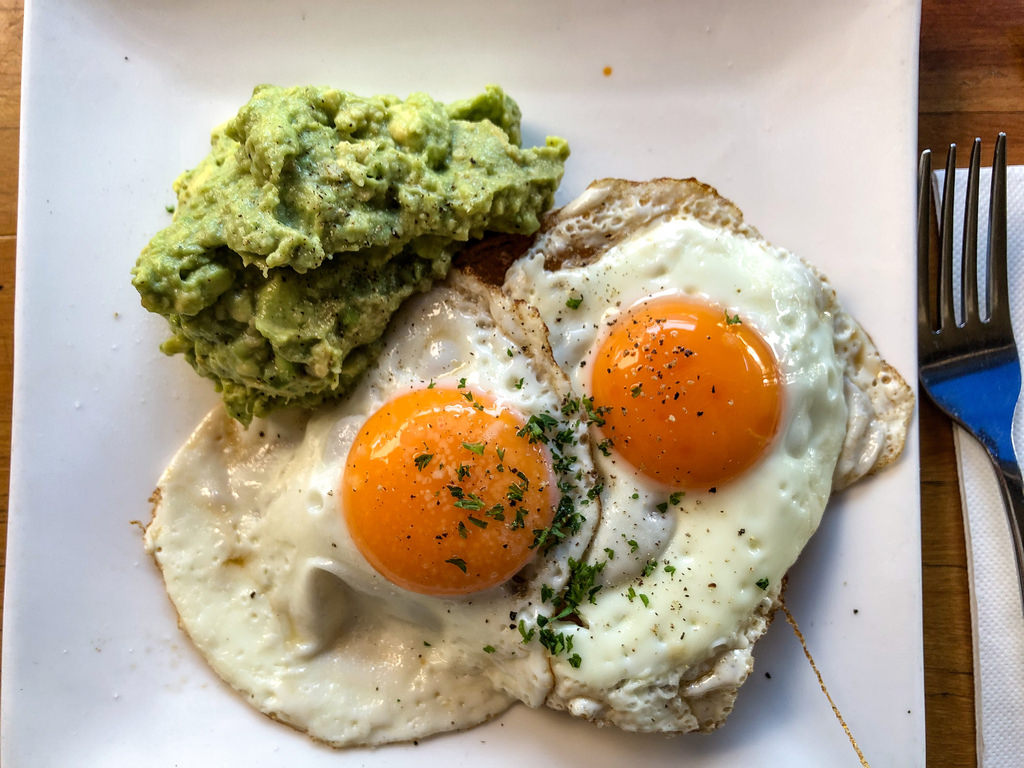fried egg: (501, 166, 903, 744), (135, 282, 573, 762)
